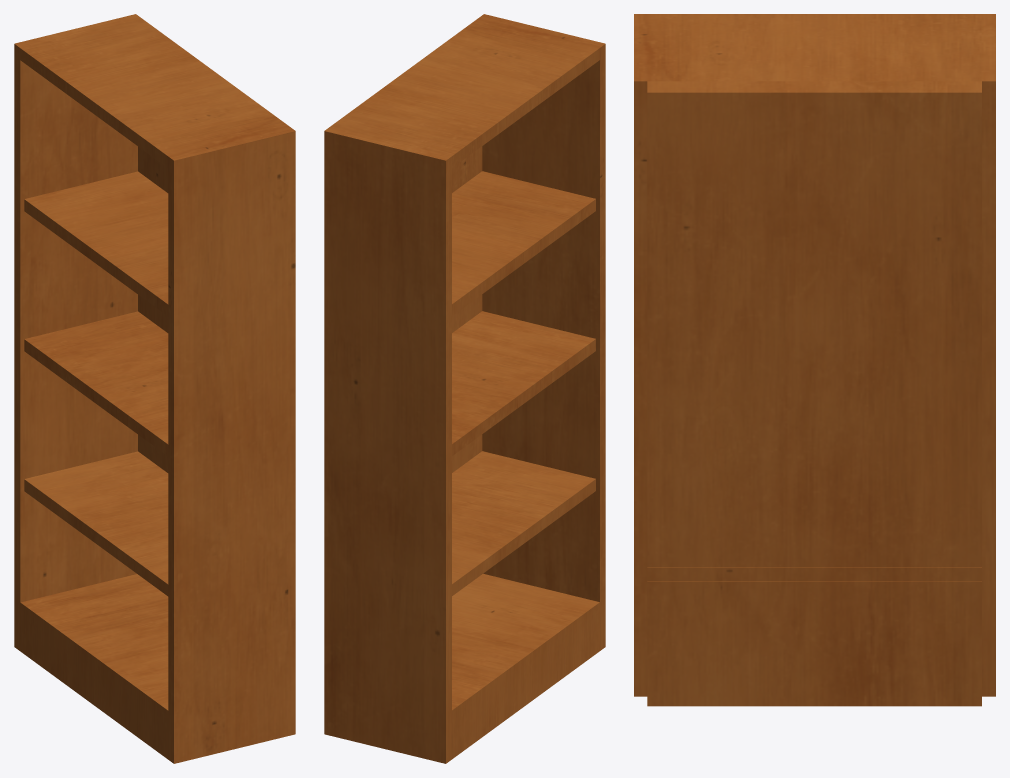
Rendered from BookShelfB.fbx.
3 views of the same model, side by side, from view 1: azimuth 30°, elevation 25°; view 2: azimuth 150°, elevation 25°; view 3: azimuth 270°, elevation 25° (orthographic). The views are drawn at different scales.
Parts seen in each view (by area): view 1: BookshelfB; view 2: BookshelfB; view 3: BookshelfB.
Part boxes in pixels (<box>): BookshelfB: <box>14,14,295,763</box>; BookshelfB: <box>324,14,605,763</box>; BookshelfB: <box>634,14,995,706</box>.
Size of the model in its own units: 51.58 by 244 by 117.
